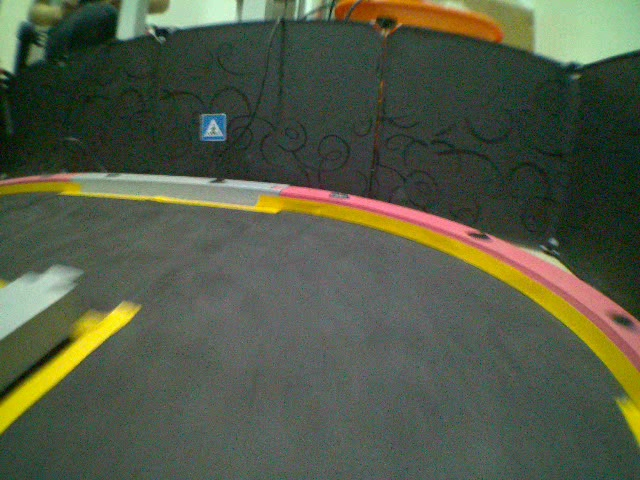crossing: (198, 114, 227, 140)
